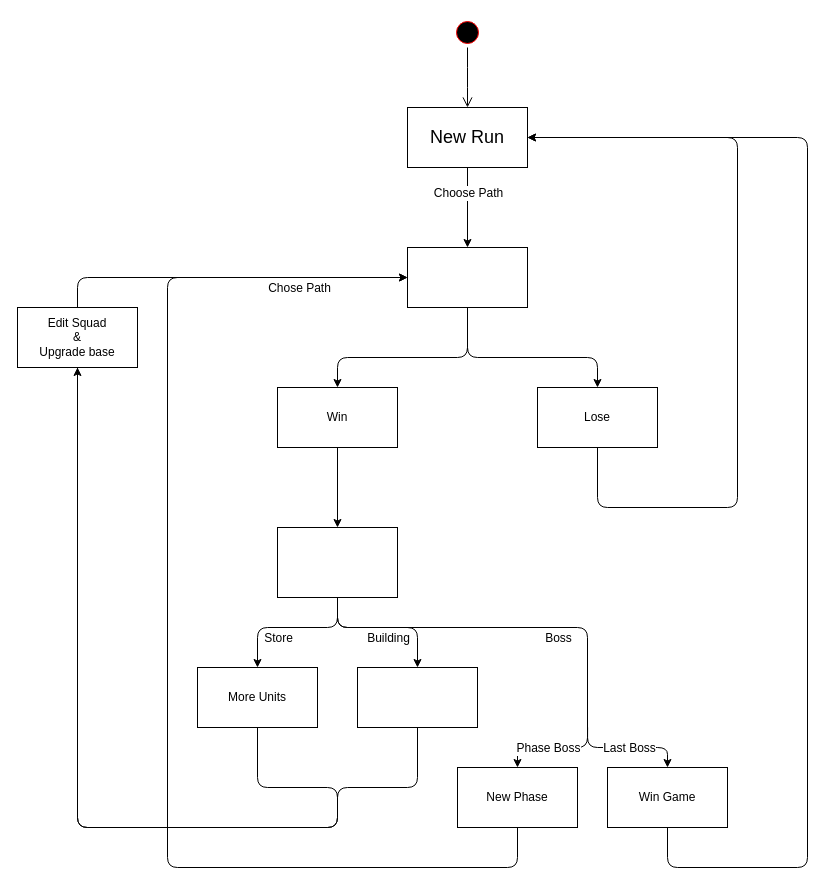
The diagram is 833 pixels wide and 893 high, and some of its shapes have lost their labels. Here are the shapes that lost their labels. From the top down, the centre of each, then its label:
point (467, 277): Combat
point (337, 562): Rewards Gold New Unit
point (417, 697): New Buff
